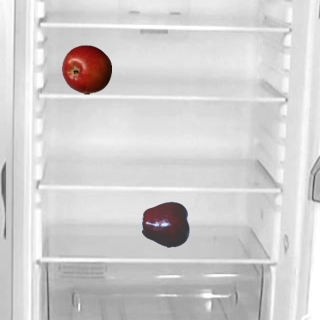Apple Braeburn: (61, 44, 111, 94)
Apple Red Delicious: (141, 199, 191, 249)
